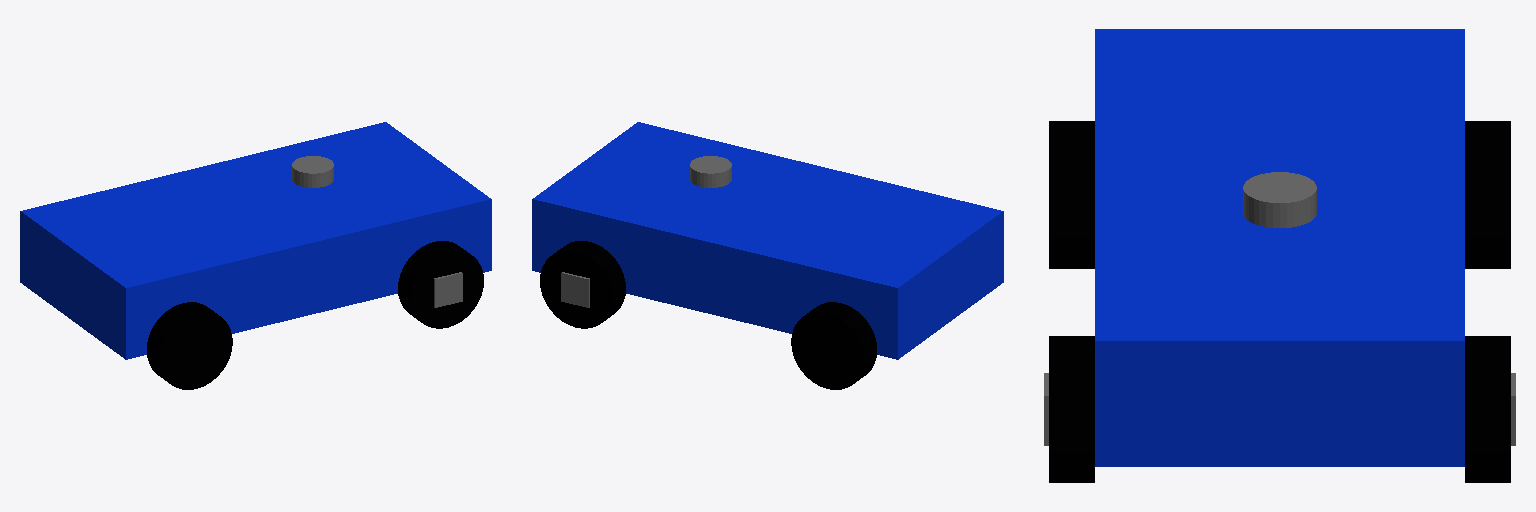
The robot description file, URDF, robot "ackermann_car":
<?xml version="1.0"?>
<robot name="ackermann_car">

  <!-- ================= Materials ================= -->

  <material name="chassis_blue">
    <color rgba="0.05 0.25 0.85 1.0"/>
  </material>

  <material name="wheel_black">
    <color rgba="0.01 0.01 0.01 1.0"/>
  </material>

  <material name="steer_gray">
    <color rgba="0.45 0.45 0.45 1.0"/>
  </material>

  <!-- ================= Base / Chassis ================= -->

  <link name="base_link">
    <inertial>
      <origin xyz="0 0 0.15" rpy="0 0 0"/>
      <mass value="12.0"/>
      <inertia
        ixx="0.45"
        ixy="0.0"
        ixz="0.0"
        iyy="1.20"
        iyz="0.0"
        izz="1.50"/>
    </inertial>
  </link>

  <link name="chassis_link">
    <visual>
      <origin xyz="0 0 0.25" rpy="0 0 0"/>
      <geometry>
        <box size="1.60 0.80 0.30"/>
      </geometry>
      <material name="chassis_blue"/>
    </visual>

    <collision>
      <origin xyz="0 0 0.25" rpy="0 0 0"/>
      <geometry>
        <box size="1.60 0.80 0.30"/>
      </geometry>
    </collision>

    <inertial>
      <origin xyz="0 0 0.25" rpy="0 0 0"/>
      <mass value="12.0"/>
      <inertia
        ixx="0.45"
        ixy="0.0"
        ixz="0.0"
        iyy="1.20"
        iyz="0.0"
        izz="1.50"/>
    </inertial>
  </link>

  <joint name="base_to_chassis_joint" type="fixed">
    <parent link="base_link"/>
    <child link="chassis_link"/>
    <origin xyz="0 0 0" rpy="0 0 0"/>
  </joint>

  <!-- ================= Front Steering Links ================= -->

  <link name="front_left_steer_link">
    <visual>
      <origin xyz="0 0 0" rpy="0 0 0"/>
      <geometry>
        <box size="0.12 0.12 0.12"/>
      </geometry>
      <material name="steer_gray"/>
    </visual>

    <collision>
      <origin xyz="0 0 0" rpy="0 0 0"/>
      <geometry>
        <box size="0.12 0.12 0.12"/>
      </geometry>
    </collision>

    <inertial>
      <mass value="0.4"/>
      <inertia ixx="0.002" ixy="0" ixz="0" iyy="0.002" iyz="0" izz="0.002"/>
    </inertial>
  </link>

  <link name="front_right_steer_link">
    <visual>
      <origin xyz="0 0 0" rpy="0 0 0"/>
      <geometry>
        <box size="0.12 0.12 0.12"/>
      </geometry>
      <material name="steer_gray"/>
    </visual>

    <collision>
      <origin xyz="0 0 0" rpy="0 0 0"/>
      <geometry>
        <box size="0.12 0.12 0.12"/>
      </geometry>
    </collision>

    <inertial>
      <mass value="0.4"/>
      <inertia ixx="0.002" ixy="0" ixz="0" iyy="0.002" iyz="0" izz="0.002"/>
    </inertial>
  </link>

  <!-- Front steering joints rotate around Z axis -->
  <joint name="front_left_steer_joint" type="revolute">
    <parent link="chassis_link"/>
    <child link="front_left_steer_link"/>
    <origin xyz="0.55 0.45 0.12" rpy="0 0 0"/>
    <axis xyz="0 0 1"/>
    <limit lower="-0.6" upper="0.6" effort="20.0" velocity="2.0"/>
  </joint>

  <joint name="front_right_steer_joint" type="revolute">
    <parent link="chassis_link"/>
    <child link="front_right_steer_link"/>
    <origin xyz="0.55 -0.45 0.12" rpy="0 0 0"/>
    <axis xyz="0 0 1"/>
    <limit lower="-0.6" upper="0.6" effort="20.0" velocity="2.0"/>
  </joint>

  <!-- ================= Wheels ================= -->

  <link name="front_left_wheel">
    <visual>
      <origin xyz="0 0 0" rpy="1.5708 0 0"/>
      <geometry>
        <cylinder radius="0.16" length="0.10"/>
      </geometry>
      <material name="wheel_black"/>
    </visual>

    <collision>
      <origin xyz="0 0 0" rpy="1.5708 0 0"/>
      <geometry>
        <cylinder radius="0.16" length="0.10"/>
      </geometry>
    </collision>

    <inertial>
      <mass value="0.8"/>
      <inertia ixx="0.006" ixy="0" ixz="0" iyy="0.006" iyz="0" izz="0.006"/>
    </inertial>
  </link>

  <link name="front_right_wheel">
    <visual>
      <origin xyz="0 0 0" rpy="1.5708 0 0"/>
      <geometry>
        <cylinder radius="0.16" length="0.10"/>
      </geometry>
      <material name="wheel_black"/>
    </visual>

    <collision>
      <origin xyz="0 0 0" rpy="1.5708 0 0"/>
      <geometry>
        <cylinder radius="0.16" length="0.10"/>
      </geometry>
    </collision>

    <inertial>
      <mass value="0.8"/>
      <inertia ixx="0.006" ixy="0" ixz="0" iyy="0.006" iyz="0" izz="0.006"/>
    </inertial>
  </link>

  <link name="rear_left_wheel">
    <visual>
      <origin xyz="0 0 0" rpy="1.5708 0 0"/>
      <geometry>
        <cylinder radius="0.16" length="0.10"/>
      </geometry>
      <material name="wheel_black"/>
    </visual>

    <collision>
      <origin xyz="0 0 0" rpy="1.5708 0 0"/>
      <geometry>
        <cylinder radius="0.16" length="0.10"/>
      </geometry>
    </collision>

    <inertial>
      <mass value="0.8"/>
      <inertia ixx="0.006" ixy="0" ixz="0" iyy="0.006" iyz="0" izz="0.006"/>
    </inertial>
  </link>

  <link name="rear_right_wheel">
    <visual>
      <origin xyz="0 0 0" rpy="1.5708 0 0"/>
      <geometry>
        <cylinder radius="0.16" length="0.10"/>
      </geometry>
      <material name="wheel_black"/>
    </visual>

    <collision>
      <origin xyz="0 0 0" rpy="1.5708 0 0"/>
      <geometry>
        <cylinder radius="0.16" length="0.10"/>
      </geometry>
    </collision>

    <inertial>
      <mass value="0.8"/>
      <inertia ixx="0.006" ixy="0" ixz="0" iyy="0.006" iyz="0" izz="0.006"/>
    </inertial>
  </link>

  <!-- Front wheel spin joints -->
  <joint name="front_left_wheel_joint" type="continuous">
    <parent link="front_left_steer_link"/>
    <child link="front_left_wheel"/>
    <origin xyz="0 0 0" rpy="0 0 0"/>
    <axis xyz="0 1 0"/>
  </joint>

  <joint name="front_right_wheel_joint" type="continuous">
    <parent link="front_right_steer_link"/>
    <child link="front_right_wheel"/>
    <origin xyz="0 0 0" rpy="0 0 0"/>
    <axis xyz="0 1 0"/>
  </joint>

  <!-- Rear wheel spin joints -->
  <joint name="rear_left_wheel_joint" type="continuous">
    <parent link="chassis_link"/>
    <child link="rear_left_wheel"/>
    <origin xyz="-0.55 0.45 0.12" rpy="0 0 0"/>
    <axis xyz="0 1 0"/>
  </joint>

  <joint name="rear_right_wheel_joint" type="continuous">
    <parent link="chassis_link"/>
    <child link="rear_right_wheel"/>
    <origin xyz="-0.55 -0.45 0.12" rpy="0 0 0"/>
    <axis xyz="0 1 0"/>
  </joint>

  <!-- ================= Sensor Mounts ================= -->

  <link name="lidar_link">
    <visual>
      <origin xyz="0 0 0" rpy="0 0 0"/>
      <geometry>
        <cylinder radius="0.08" length="0.06"/>
      </geometry>
      <material name="steer_gray"/>
    </visual>

    <collision>
      <origin xyz="0 0 0" rpy="0 0 0"/>
      <geometry>
        <cylinder radius="0.08" length="0.06"/>
      </geometry>
    </collision>

    <inertial>
      <mass value="0.2"/>
      <inertia ixx="0.001" ixy="0" ixz="0" iyy="0.001" iyz="0" izz="0.001"/>
    </inertial>
  </link>

  <joint name="lidar_joint" type="fixed">
    <parent link="chassis_link"/>
    <child link="lidar_link"/>
    <origin xyz="0.25 0 0.48" rpy="0 0 0"/>
  </joint>

</robot>

--- What the picture shows (computed from the rendered views, not written in the file) ---
The picture shows the robot from 3 angles, left to right: view 1: azimuth 30°, elevation 25°; view 2: azimuth 150°, elevation 25°; view 3: azimuth 270°, elevation 25°; orthographic projection.
Robot: ackermann_car — 9 links, 8 joints (2 revolute, 4 continuous, 2 fixed); root link base_link; default pose: all joints at 0.
Visible links, largest first — view 1: chassis_link, rear_right_wheel, front_right_wheel, lidar_link, front_right_steer_link; view 2: chassis_link, rear_left_wheel, front_left_wheel, lidar_link, front_left_steer_link; view 3: chassis_link, rear_left_wheel, rear_right_wheel, front_left_wheel, front_right_wheel, lidar_link.
Link boxes in pixels (x1,y1,x2,y2): chassis_link: [20, 122, 491, 359]; rear_right_wheel: [147, 302, 232, 389]; front_right_wheel: [398, 241, 483, 328]; lidar_link: [292, 156, 333, 187]; front_right_steer_link: [434, 272, 462, 307]; chassis_link: [532, 122, 1003, 359]; rear_left_wheel: [791, 302, 876, 389]; front_left_wheel: [540, 241, 625, 328]; lidar_link: [690, 156, 731, 187]; front_left_steer_link: [561, 272, 589, 307]; chassis_link: [1095, 29, 1464, 466]; rear_left_wheel: [1465, 121, 1510, 268]; rear_right_wheel: [1049, 121, 1094, 268]; front_left_wheel: [1465, 336, 1510, 482]; front_right_wheel: [1049, 336, 1094, 482]; lidar_link: [1243, 172, 1316, 227].
Size in the robot's own frame: 1.6 by 1.02 by 0.55 metres.
Geometry: primitives only (box / cylinder / sphere), no mesh files.
